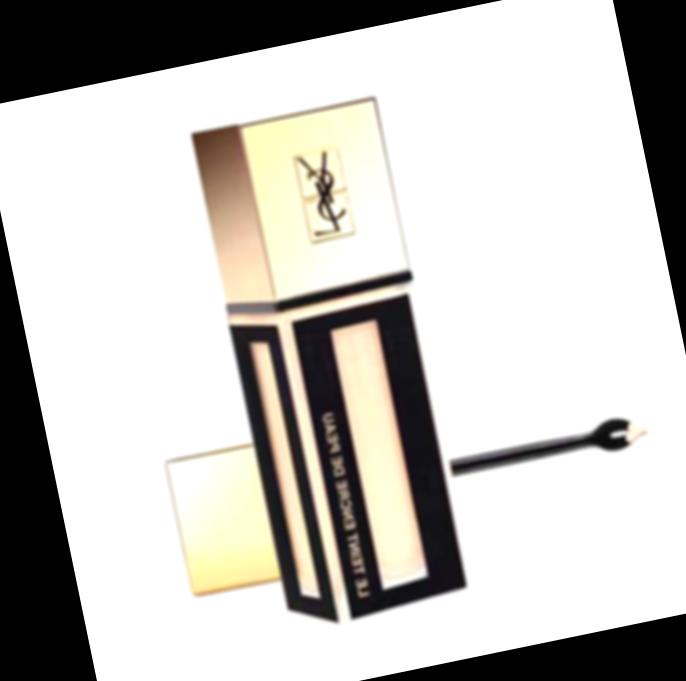cosmetic: (185, 97, 476, 636)
